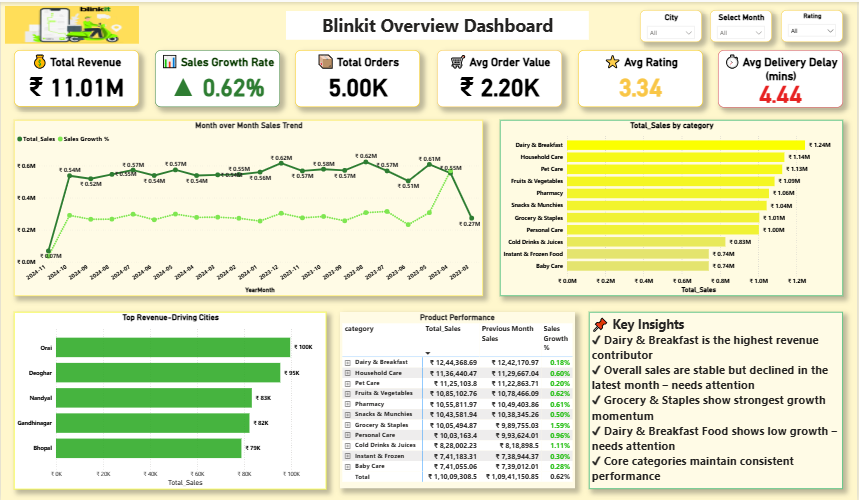

What the dashboard file says about the page in this screenshot:
{"tool":"powerbi","page":{"name":"Blinkit Overview","canvas":[1815,1060],"ordinal":0},"visuals":[{"type":"image","box":[8,8,284,80],"z":0},{"type":"textbox","box":[604.2,19.1,642.4,61.5],"z":1000},{"type":"card","title":"💰 Total Revenue","fields":{"Values":["Sum(blinkit_orders.order_total)"]},"box":[27.5,102.5,265,120],"z":2000},{"type":"card","title":"🛒 Avg Order Value","fields":{"Values":["Dim_Date.Avg Order Value"]},"box":[924.3,101.8,265,120.8],"z":3000},{"type":"card","title":"📦 Total Orders","fields":{"Values":["Dim_Date.Total Orders"]},"box":[623.3,101.8,265,120.8],"z":4000},{"type":"barChart","fields":{"Category":["blinkit_products.category"],"Y":["Dim_Date.Total_Sales"]},"box":[1057.9,250.2,727.2,373.1],"z":5000},{"type":"card","title":"📊 Sales Growth Rate","fields":{"Values":["Dim_Date.Sales Growth Arrow"]},"box":[326.5,101.8,265,120.8],"z":6000},{"type":"lineChart","title":"Month over Month Sales Trend","fields":{"Y":["Dim_Date.Total_Sales"],"Y2":["Dim_Date.Sales Growth %"],"Category":["Dim_Date.YearMonth"]},"box":[27.6,250.2,994.3,373.1],"z":7000},{"type":"slicer","title":"Select Month","fields":{"Values":["Dim_Date.YearMonth"]},"box":[1503.8,17.5,131.2,67.5],"z":8000},{"type":"pivotTable","title":"Product Performance","fields":{"Rows":["blinkit_products.category","blinkit_products.product_name"],"Values":["Dim_Date.Total_Sales","Dim_Date.Previous Month Sales","Dim_Date.Sales Growth %"]},"box":[717.8,657.8,497.8,374.4],"z":9000},{"type":"textbox","box":[1247.5,657.5,537.5,375],"z":10000},{"type":"slicer","title":"City","fields":{"Values":["blinkit_customers.area"]},"box":[1355,17.5,131.2,67.5],"z":11000},{"type":"barChart","title":"Top Revenue-Driving Cities","fields":{"Category":["blinkit_customers.area"],"Y":["Dim_Date.Total_Sales"]},"box":[27.8,656.7,662.2,375.6],"z":12000},{"type":"card","title":"⏱️ Avg Delivery Delay (mins)","fields":{"Values":["Dim_Date.Avg Delivery Time"]},"box":[1520,101.7,265,121.7],"z":13000},{"type":"card","title":"⭐ Avg Rating","fields":{"Values":["Avg(blinkit_customer_feedback.rating)"]},"box":[1223.2,101.8,265,120.8],"z":14000},{"type":"slicer","title":"Rating","fields":{"Values":["blinkit_customer_feedback.rating"]},"box":[1653.6,17,131.4,67.8],"z":15000}]}

Visuals, with their boxes in screenshot pixels (x1, y1, x2, y2), scaled from the page's 1815x1060 canvas onto the 859x500 screenshot:
image: left=4, top=4, right=138, bottom=42
textbox: left=286, top=9, right=590, bottom=38
"💰 Total Revenue" card: left=13, top=48, right=138, bottom=105
"🛒 Avg Order Value" card: left=437, top=48, right=563, bottom=105
"📦 Total Orders" card: left=295, top=48, right=420, bottom=105
barChart - blinkit_products.category x Dim_Date.Total_Sales: left=501, top=118, right=845, bottom=294
"📊 Sales Growth Rate" card: left=155, top=48, right=280, bottom=105
"Month over Month Sales Trend" lineChart: left=13, top=118, right=484, bottom=294
"Select Month" slicer: left=712, top=8, right=774, bottom=40
"Product Performance" pivotTable: left=340, top=310, right=575, bottom=487
textbox: left=590, top=310, right=845, bottom=487
"City" slicer: left=641, top=8, right=703, bottom=40
"Top Revenue-Driving Cities" barChart: left=13, top=310, right=327, bottom=487
"⏱️ Avg Delivery Delay (mins)" card: left=719, top=48, right=845, bottom=105
"⭐ Avg Rating" card: left=579, top=48, right=704, bottom=105
"Rating" slicer: left=783, top=8, right=845, bottom=40
